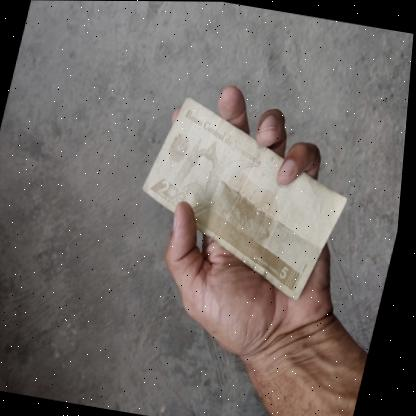five-back-vef: (123, 91, 369, 304)
